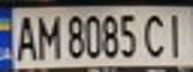0: (81, 11, 103, 60)
5: (118, 10, 142, 58)
8: (63, 11, 84, 60), (100, 11, 121, 60)
A: (12, 11, 39, 62)
C: (139, 10, 172, 58)
I: (163, 10, 190, 60)
M: (33, 11, 60, 61)
